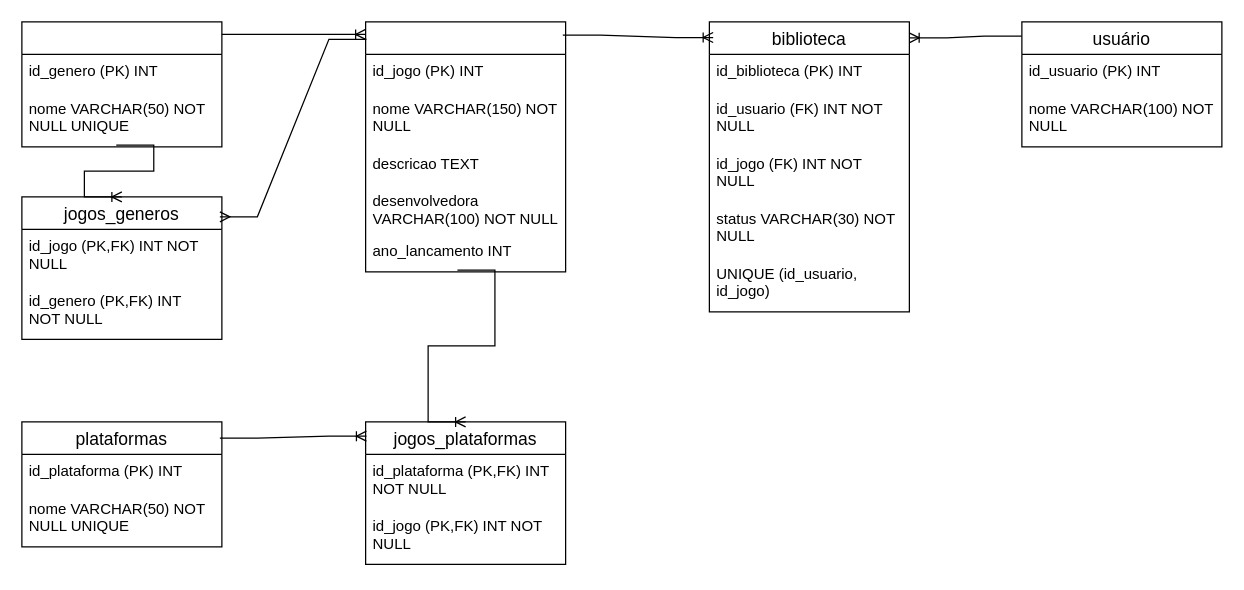
Some shapes in this 1244 by 590 pixel diagram are drawn without their labels. The box of each missing label's shape, as (x1, y1, x2, y2) in pixels:
generos: (21, 21, 222, 147)
jogos: (364, 21, 566, 272)
